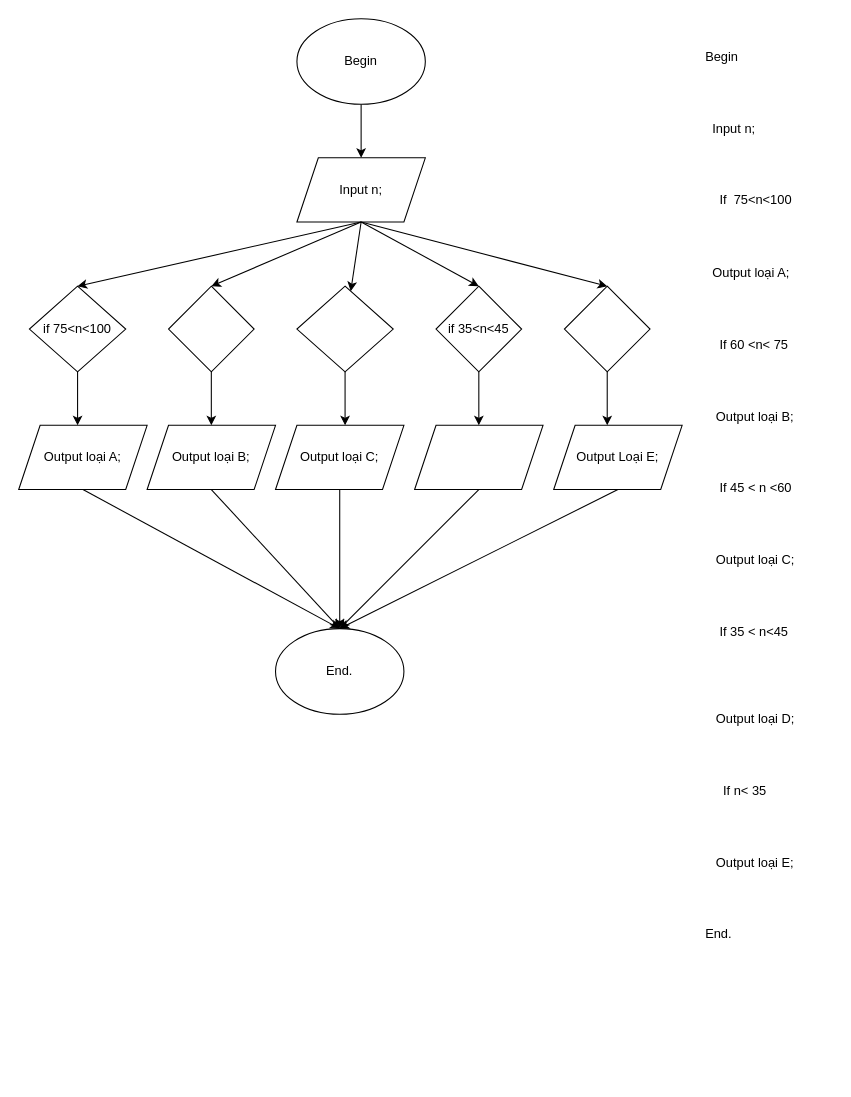
Some shapes in this 851 by 1097 pixel diagram are drawn without their labels. Here are the shapes that lost their labels. From the top down, the centre of each, then its label:
At point 210,328: "if 60<n<75".
At point 344,328: "if 45<n<60".
At point 606,328: "if n<35".
At point 478,457: "Output loại D;".
